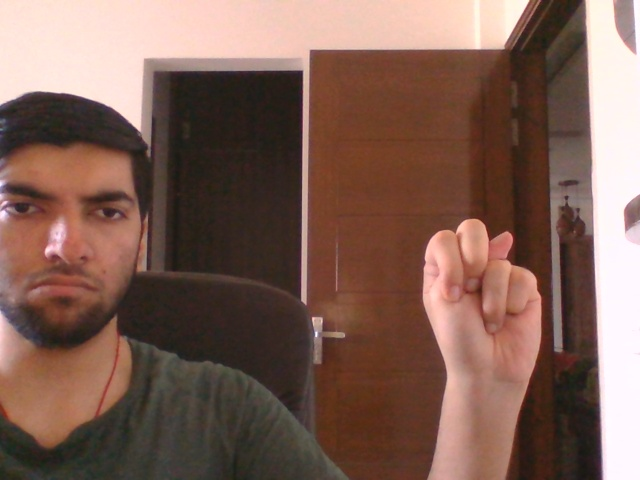LetterN: (422, 218, 542, 393)
